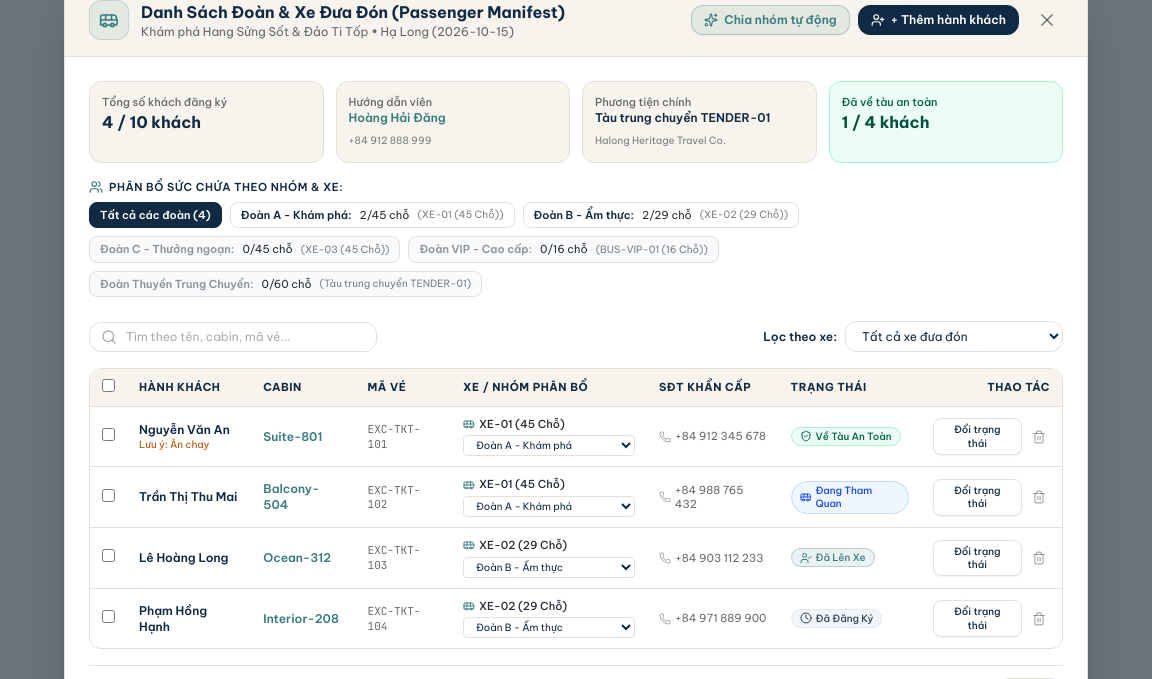
Test: ExcursionGroupAssignment Tests (KAN-181) › allows inline individual group re-assignment via row dropdown
# Change Nguyen Van An to GRP-VIP
Select "Đoàn VIP - Cao cấp" in the dropdown named "Đổi đoàn cho Nguyễn Văn An" at (549, 446), box [463,435,635,456]
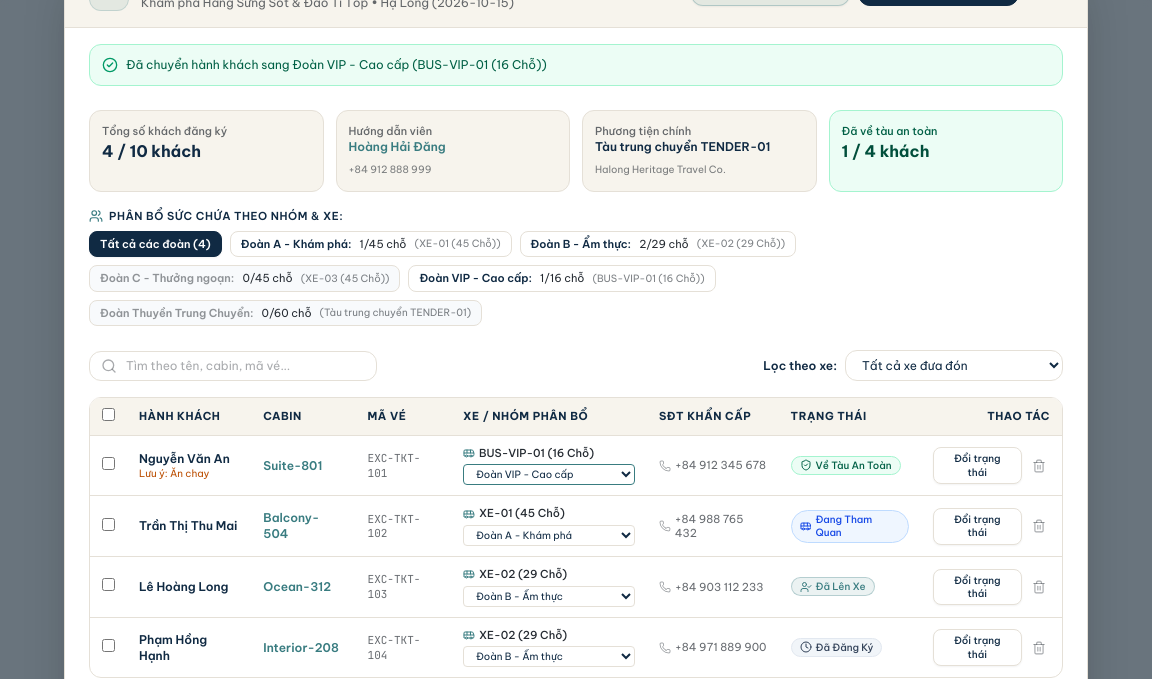
Check: the text "Đã chuyển hành khách sang Đoàn VIP - Cao cấp" is shown, box [126,57,547,72]
